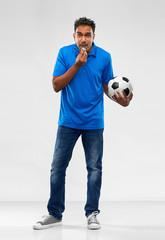Human: (41, 17, 124, 240)
